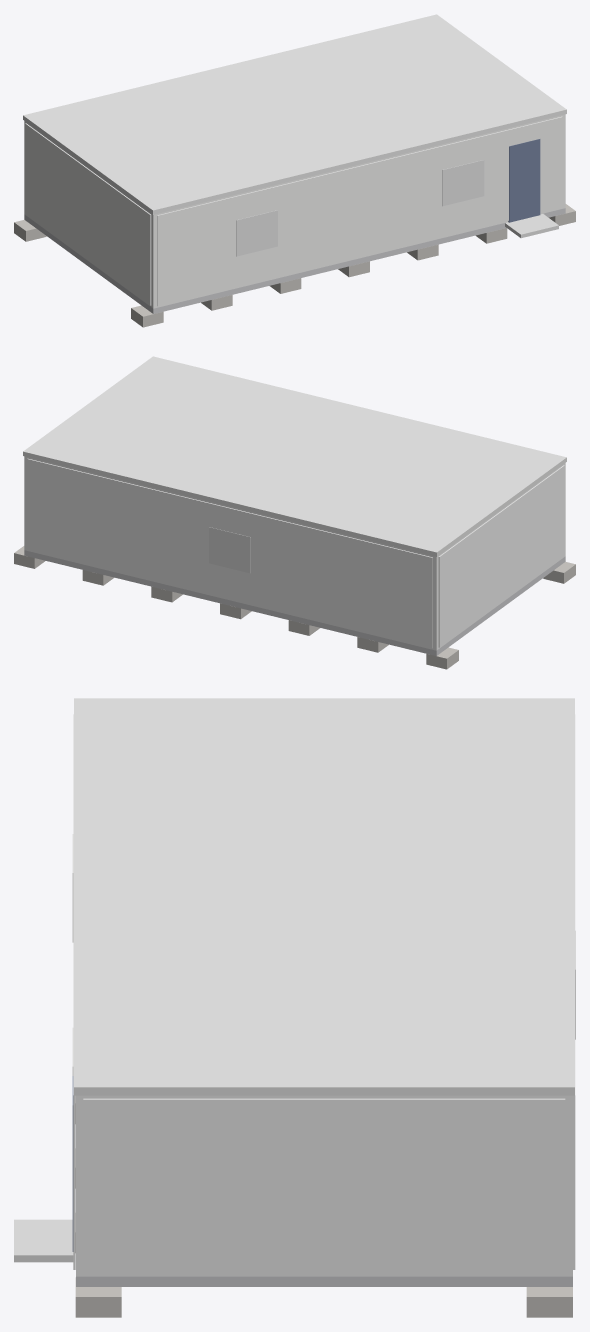
Rendered from Studio-40-Village-LOD2.glb.
3 renders of one model, top to bottom at view 1: azimuth 30°, elevation 25°; view 2: azimuth 150°, elevation 25°; view 3: azimuth 270°, elevation 25°, orthographic. The views are drawn at different scales.
Visible parts, largest first — view 1: RoofMain, ExteriorPanelsStandard, WindowsStandard, BaseFrame, ExteriorShell, FoundationBlocks, EntryDoor, AccessibilityVillage; view 2: RoofMain, ExteriorPanelsStandard, BaseFrame, ExteriorShell, FoundationBlocks, WindowsStandard; view 3: RoofMain, ExteriorPanelsStandard, ExteriorShell, BaseFrame, FoundationBlocks, AccessibilityVillage.
Part boxes in pixels (x1,y1,x2,y2): RoofMain: (23, 14, 566, 214); ExteriorPanelsStandard: (25, 116, 562, 306); WindowsStandard: (236, 160, 484, 256); BaseFrame: (24, 208, 565, 313); ExteriorShell: (24, 114, 565, 308); FoundationBlocks: (14, 204, 575, 327); EntryDoor: (508, 139, 540, 222); AccessibilityVillage: (505, 214, 558, 238); RoofMain: (23, 356, 566, 556); ExteriorPanelsStandard: (27, 458, 564, 648); BaseFrame: (24, 550, 565, 655); ExteriorShell: (24, 456, 565, 650); FoundationBlocks: (14, 546, 575, 669); WindowsStandard: (209, 527, 250, 573); RoofMain: (74, 698, 574, 1095); ExteriorPanelsStandard: (73, 714, 575, 1273); ExteriorShell: (76, 1095, 572, 1276); BaseFrame: (76, 1276, 572, 1286); FoundationBlocks: (75, 1096, 572, 1317); AccessibilityVillage: (14, 1219, 73, 1262).
Bounding box in the file's own units: 12.49 × 3.17 × 7.29.
